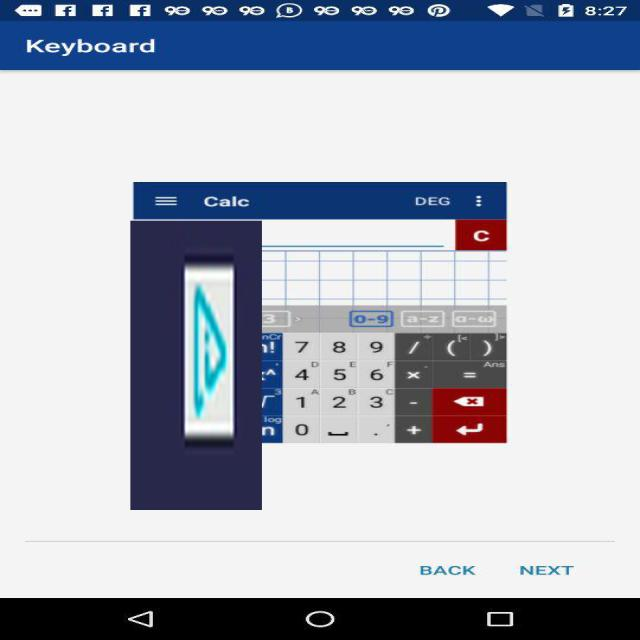sneaking: (130, 221, 262, 510)
